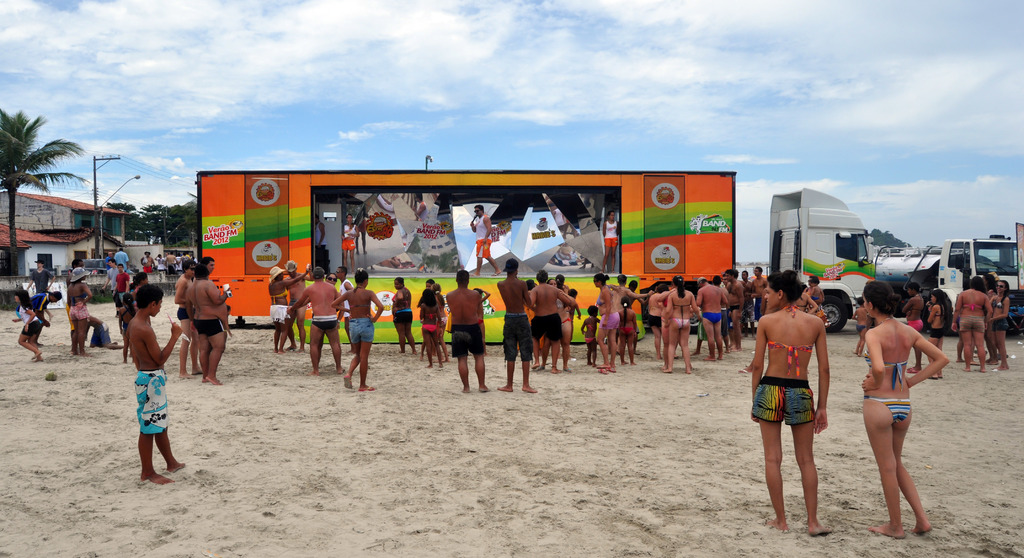Person: (12, 193, 1011, 539)
